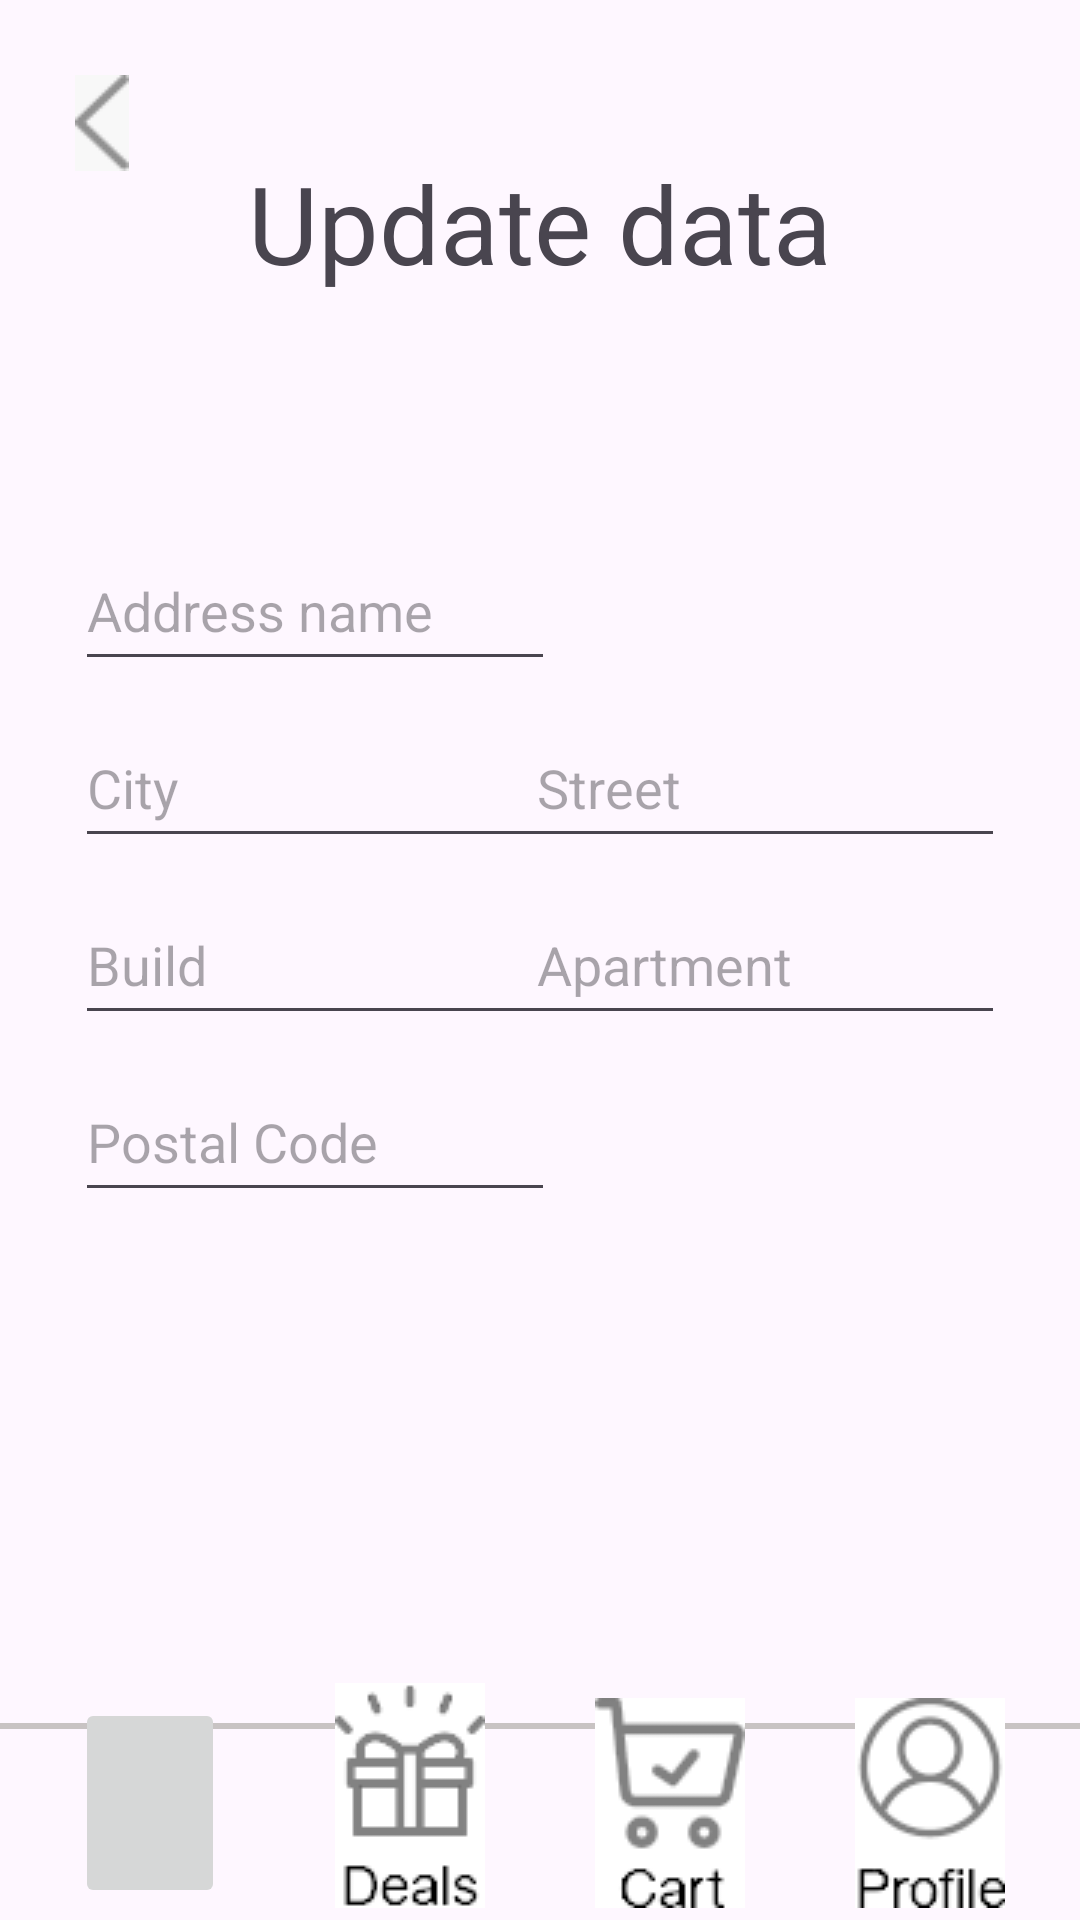

Screen size 1080w x 1920h. Icon name, then its box in pixels as {"x1": x1, "y1": y1, "x2": x2, "y2": y2}:
back: {"x1": 75, "y1": 75, "x2": 129, "y2": 171}
